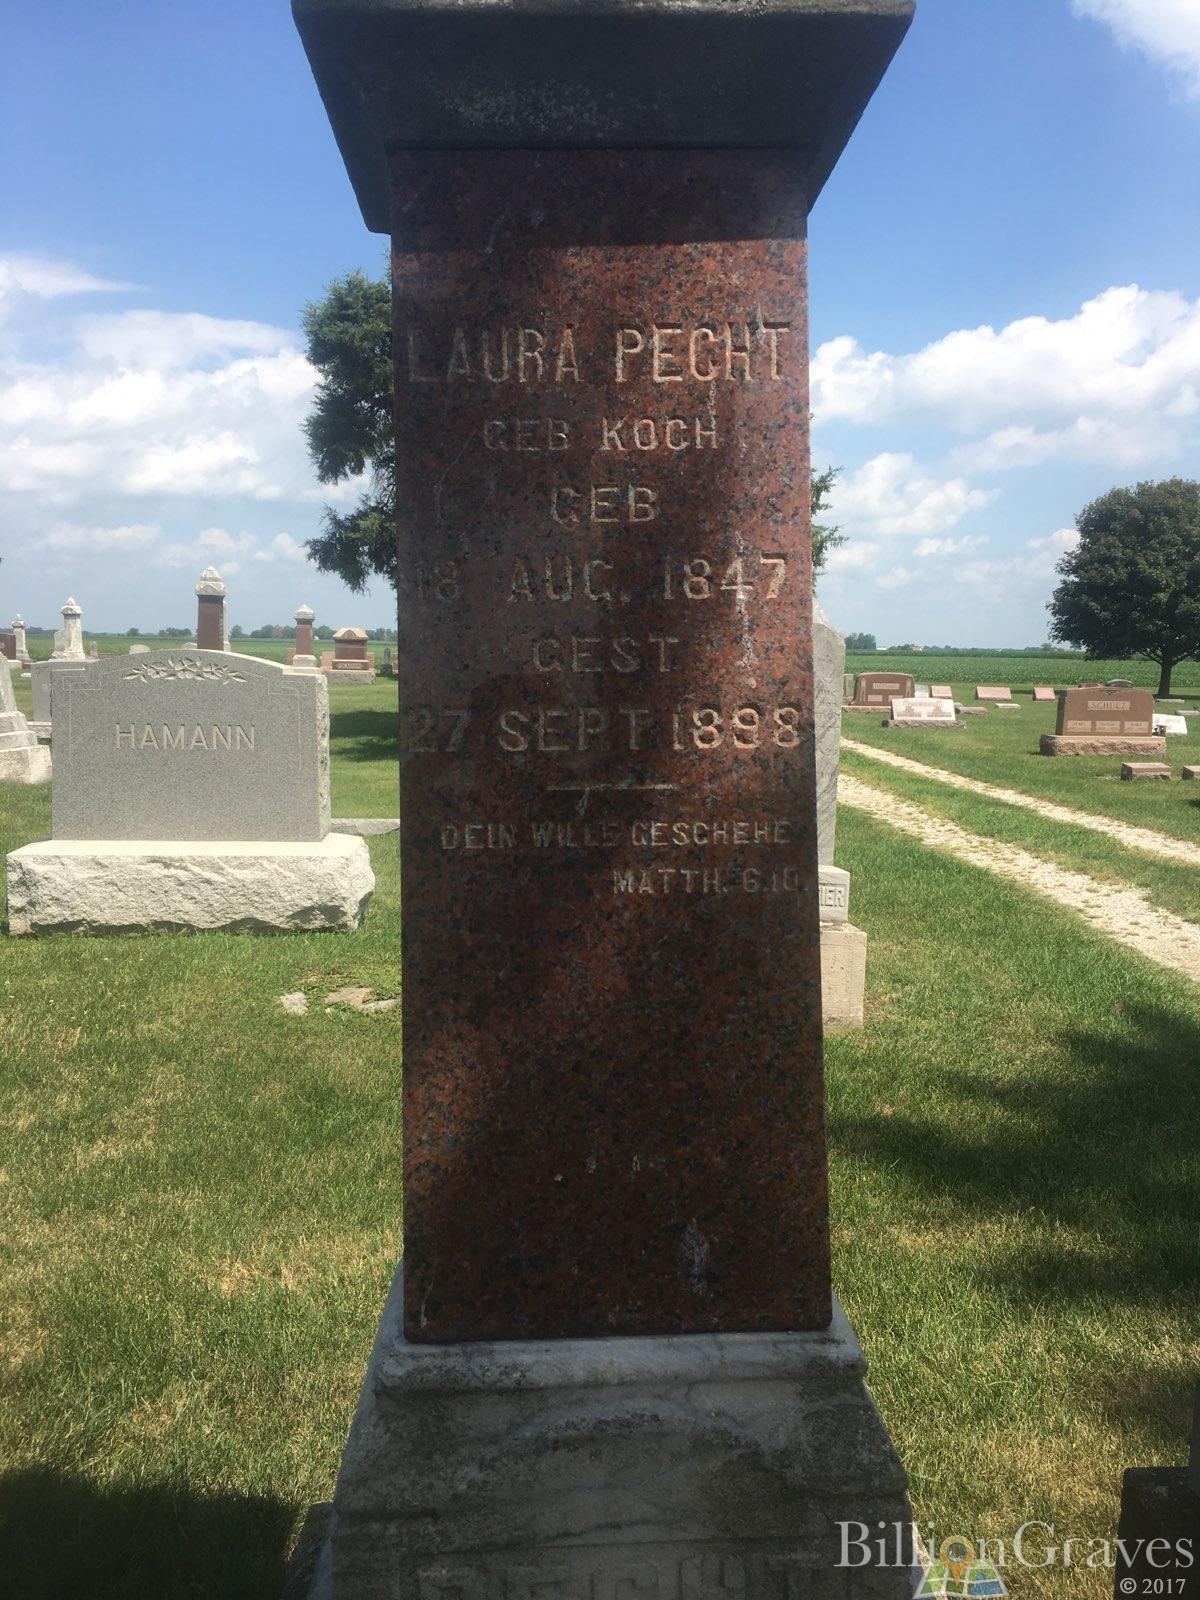obelisk: (290, 9, 971, 1516)
